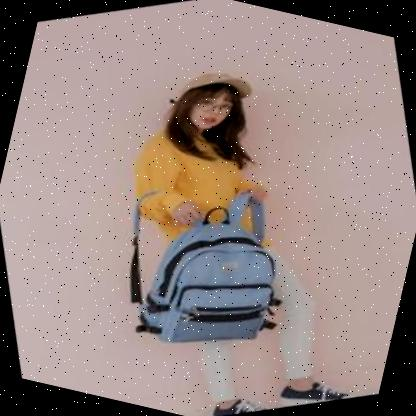bag: (96, 161, 306, 368)
person: (67, 46, 414, 416)
